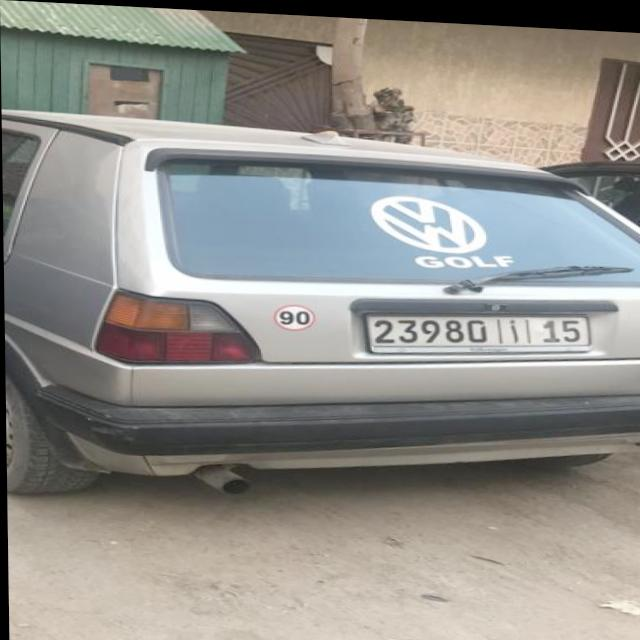License-Plate: (366, 310, 591, 349)
